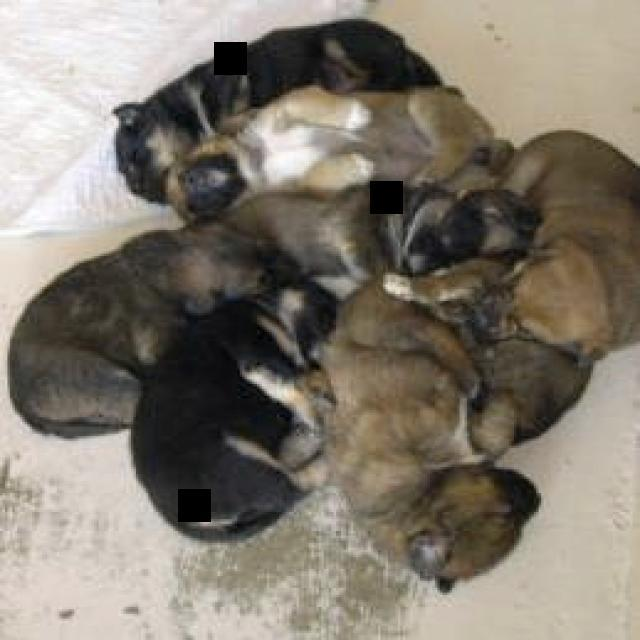puppy-dog: (6, 181, 414, 441), (316, 277, 544, 594), (109, 18, 450, 213), (127, 281, 342, 545), (378, 130, 640, 334), (168, 84, 515, 229), (439, 246, 640, 461)
